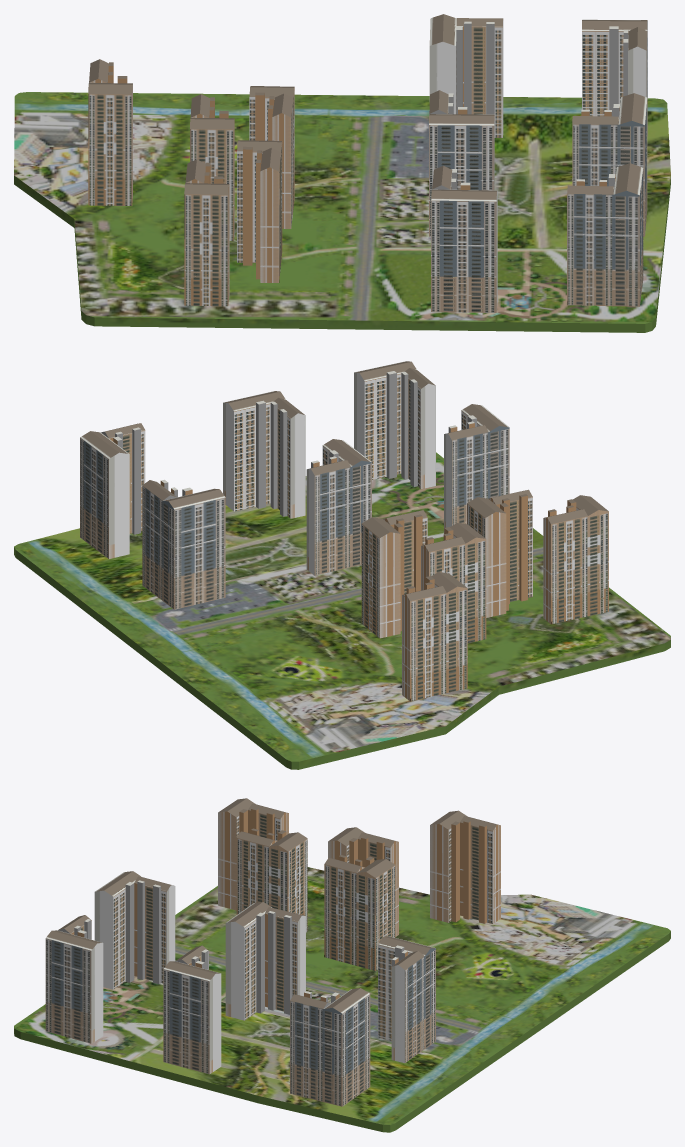
File: ICJ00105_C.glb
3 renders of one model, top to bottom at view 1: azimuth 30°, elevation 25°; view 2: azimuth 150°, elevation 25°; view 3: azimuth 270°, elevation 25°, orthographic. The views are drawn at different scales.
Visible parts, largest first — view 1: MainBuilding; view 2: MainBuilding; view 3: MainBuilding.
Boxes of the visible parts, x1,y1,x2,y2 form: MainBuilding: (14,14,670,332); MainBuilding: (14,361,670,769); MainBuilding: (14,798,670,1132).
Size of the model in its own units: 3675 by 672 by 3827.
1 material, 1 textured.
